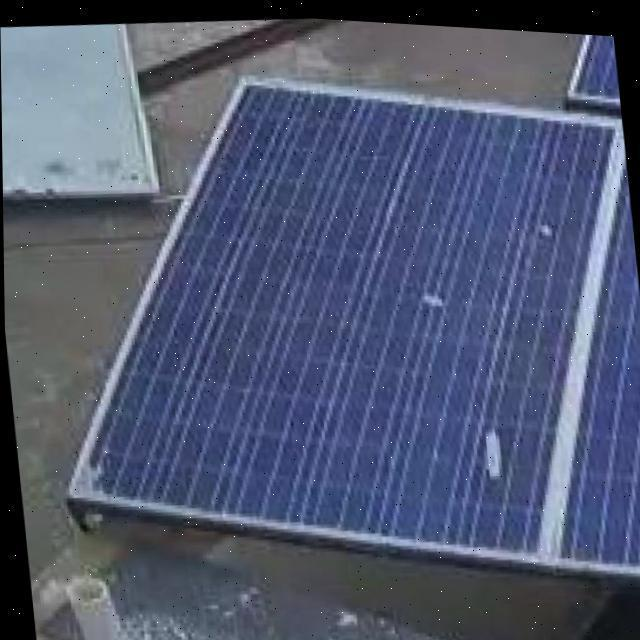Anomaly Solar Panel: (73, 19, 612, 597)
Snow: (406, 276, 454, 314), (477, 421, 507, 475)
